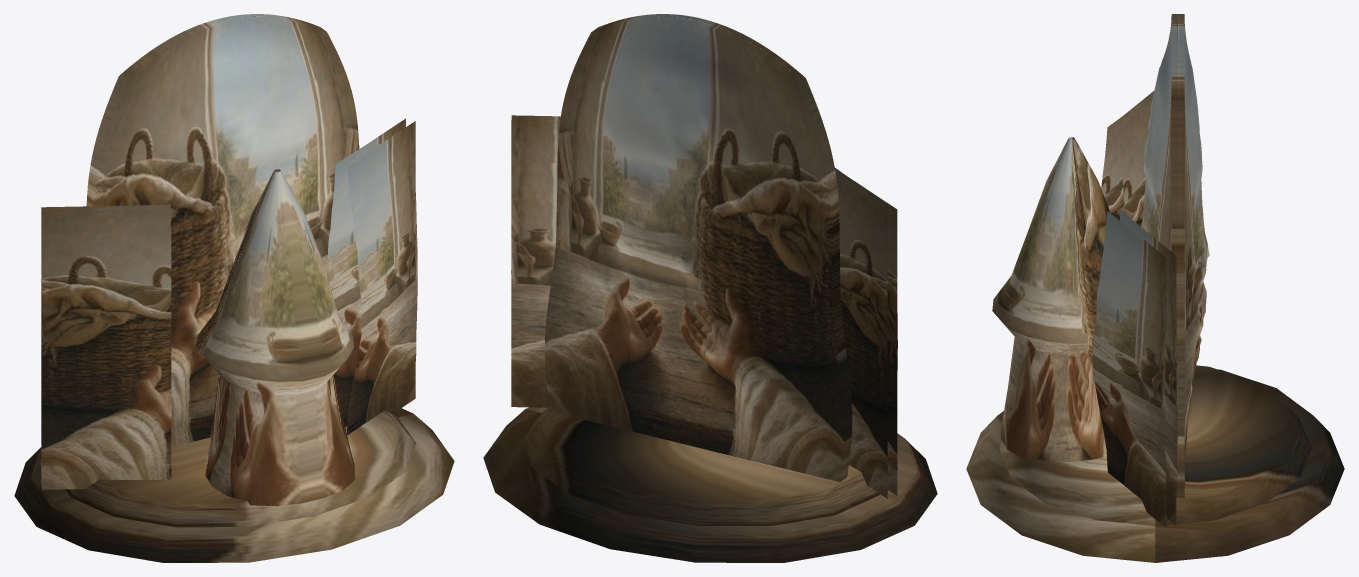
File: a-living-hope-21.glb
3 renders of one model, left to right at view 1: azimuth 30°, elevation 25°; view 2: azimuth 150°, elevation 25°; view 3: azimuth 270°, elevation 25°, orthographic. The views are drawn at different scales.
Parts seen in each view (by area): view 1: PaintingSculptureMonument; view 2: PaintingSculptureMonument; view 3: PaintingSculptureMonument.
Boxes of the visible parts, <box> form: PaintingSculptureMonument: <box>14,14,454,562</box>; PaintingSculptureMonument: <box>483,14,937,562</box>; PaintingSculptureMonument: <box>966,14,1344,562</box>.
Bounding box in the file's own units: 2.76 × 2.99 × 2.35.
1 material, 1 textured.
